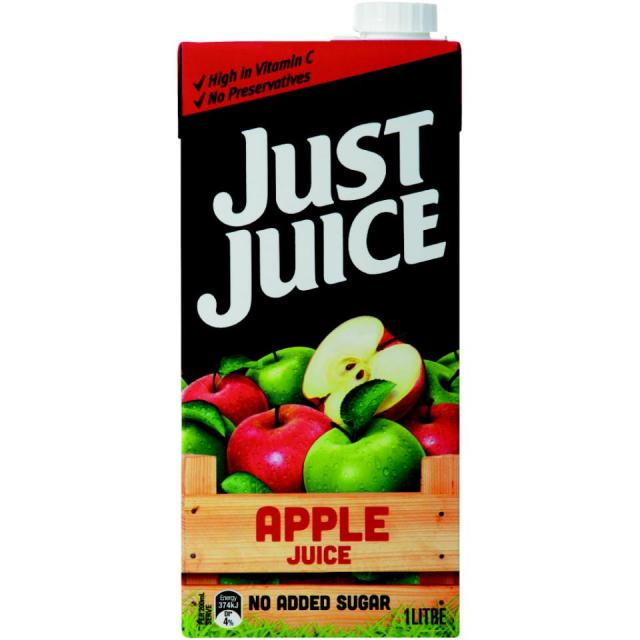non_white_jug: (164, 11, 486, 629)
